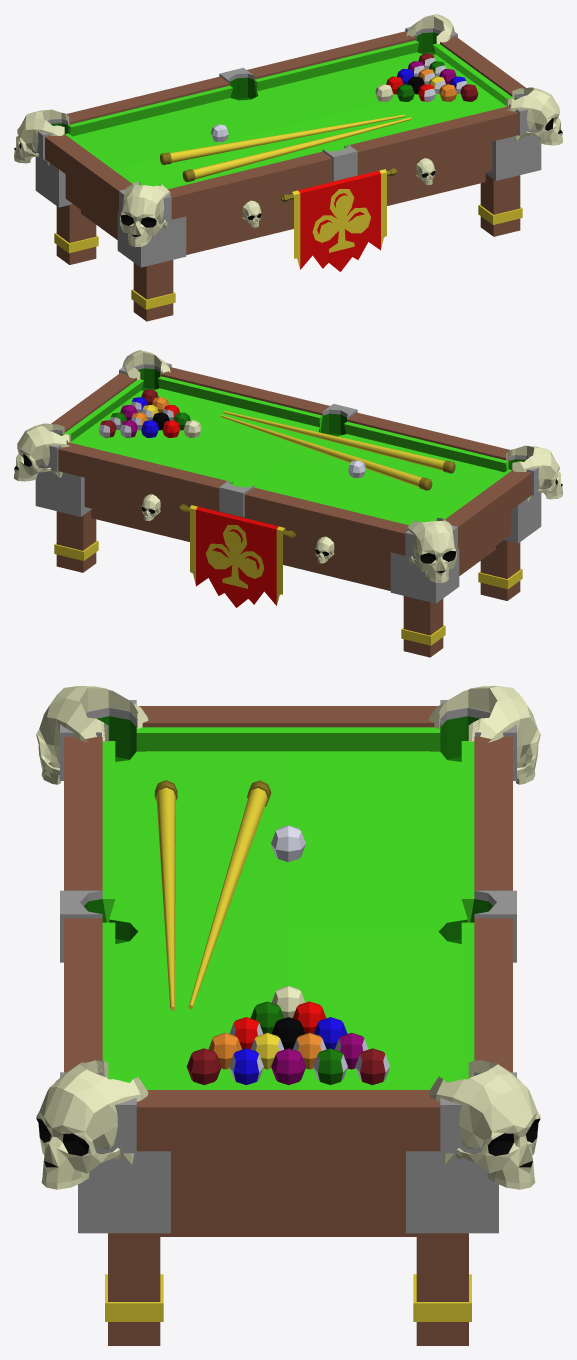
File: Poolv04.fbx
The picture shows the model from 3 angles, top to bottom: view 1: azimuth 30°, elevation 25°; view 2: azimuth 150°, elevation 25°; view 3: azimuth 270°, elevation 25°; orthographic projection. The views are drawn at different scales.
Parts seen in each view (by area): view 1: Pool; view 2: Pool; view 3: Pool.
Part boxes in pixels (x1,y1,x2,y2): Pool: (14,14,562,321); Pool: (14,350,562,657); Pool: (36,686,540,1345).
Size of the model in its own units: 2 by 0.6233 by 1.
